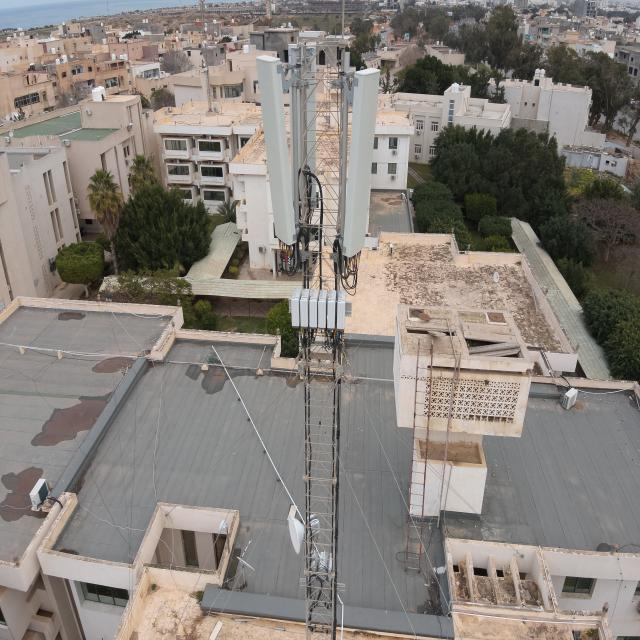antenna: (255, 54, 299, 245), (342, 66, 382, 259), (285, 42, 317, 210)
lighnig-rad: (339, 0, 347, 46)
microware-dish: (287, 511, 320, 553)
power-box: (306, 548, 338, 576)
radio-unit: (288, 286, 349, 330)
